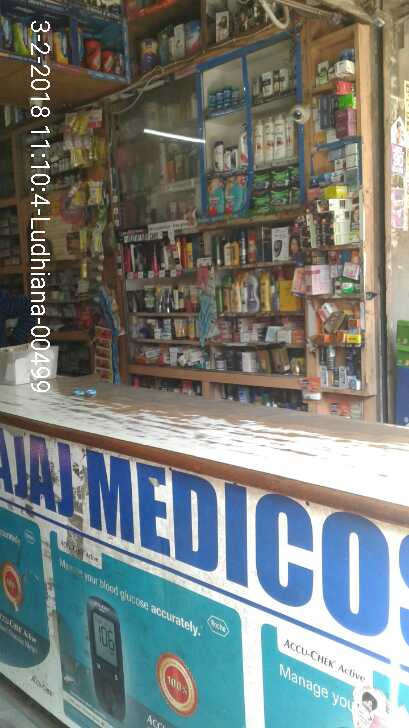vicks: (204, 82, 249, 119)
